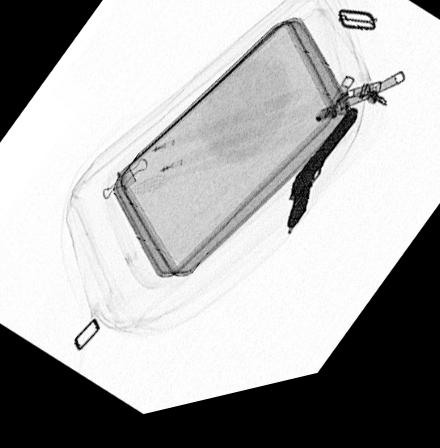Gun: (286, 125, 357, 242)
